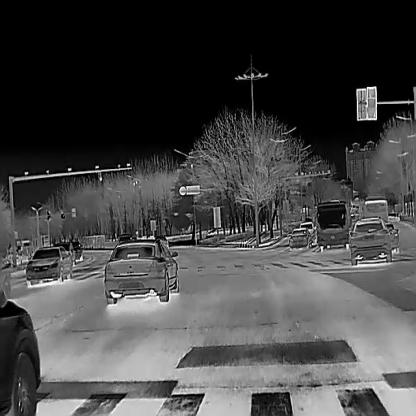bus: (315, 198, 349, 250), (361, 196, 388, 224)
car: (0, 282, 42, 415), (103, 237, 179, 304), (349, 214, 392, 265), (25, 245, 72, 282), (380, 220, 400, 254), (56, 239, 82, 264), (289, 226, 312, 248), (298, 219, 316, 242)
